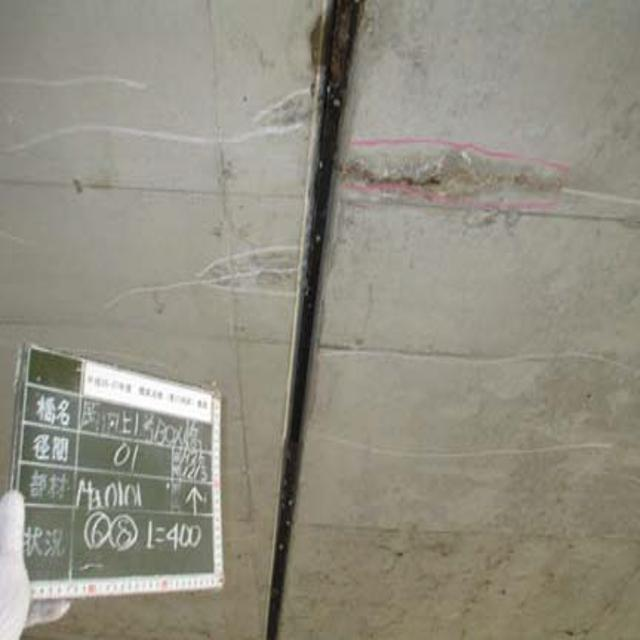freelime: (193, 229, 317, 310)
spalling: (347, 140, 576, 220)
